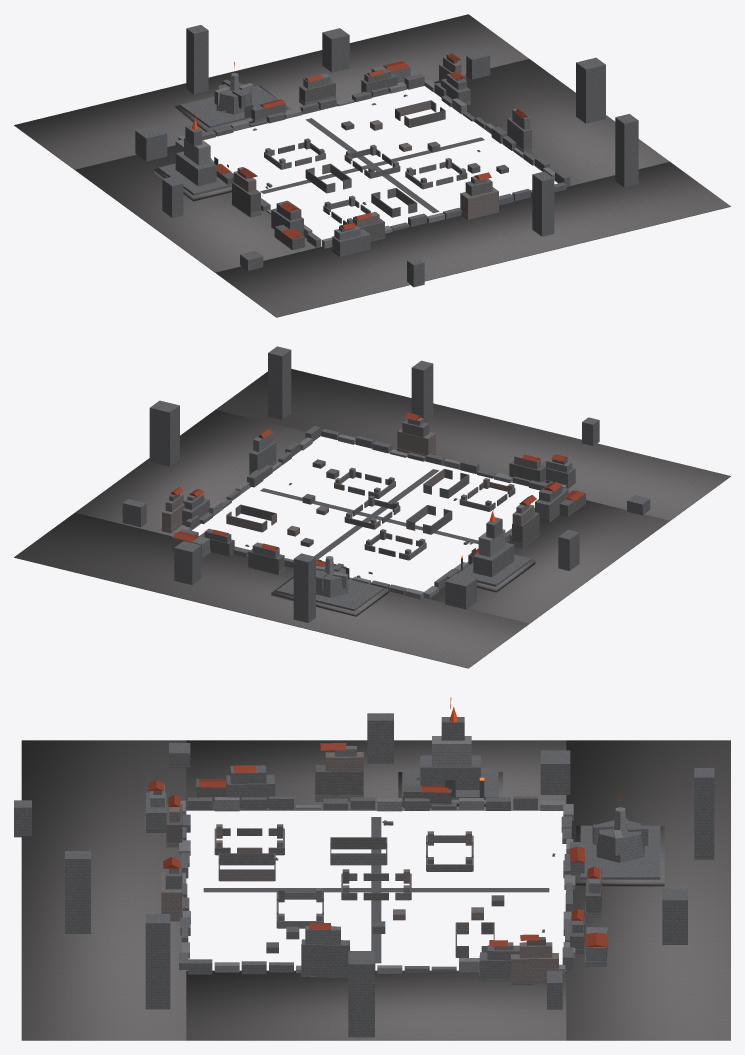
3 views of the same model, one above another, from view 1: azimuth 30°, elevation 25°; view 2: azimuth 150°, elevation 25°; view 3: azimuth 270°, elevation 25° (orthographic). The views are drawn at different scales.
Visible parts, largest first — view 1: HB_z02_LOD2_terrain, HB_z02_LOD2_wall_alt, HB_z02_LOD2_wall_weathered, HB_z02_LOD2_wall_warm, HB_z02_LOD2_wall_cool, HB_z02_LOD2_LANDMARK_0_wall_alt, HB_z02_LOD2_LANDMARK_1_wall_alt, HB_z02_LOD2_road, HB_z02_LOD2_wall, HB_z02_LOD2_roof, HB_z02_LOD2_LANDMARK_1_wall; view 2: HB_z02_LOD2_terrain, HB_z02_LOD2_wall_alt, HB_z02_LOD2_wall_weathered, HB_z02_LOD2_wall_warm, HB_z02_LOD2_wall_cool, HB_z02_LOD2_LANDMARK_0_wall_alt, HB_z02_LOD2_LANDMARK_1_wall_alt, HB_z02_LOD2_wall, HB_z02_LOD2_road, HB_z02_LOD2_roof, HB_z02_LOD2_LANDMARK_0_terrain, HB_z02_LOD2_LANDMARK_1_wall; view 3: HB_z02_LOD2_terrain, HB_z02_LOD2_wall_alt, HB_z02_LOD2_wall_weathered, HB_z02_LOD2_wall_warm, HB_z02_LOD2_wall_cool, HB_z02_LOD2_LANDMARK_0_wall_alt, HB_z02_LOD2_wall, HB_z02_LOD2_LANDMARK_1_wall_alt, HB_z02_LOD2_roof, HB_z02_LOD2_road, HB_z02_LOD2_LANDMARK_1_wall, HB_z02_LOD2_LANDMARK_0_terrain.
Part boxes in pixels (x1,y1,x2,y2): HB_z02_LOD2_terrain: (14,14,730,317); HB_z02_LOD2_wall_alt: (135,25,638,287); HB_z02_LOD2_wall_weathered: (216,53,508,256); HB_z02_LOD2_wall_warm: (233,56,498,237); HB_z02_LOD2_wall_cool: (237,61,531,240); HB_z02_LOD2_LANDMARK_0_wall_alt: (180,79,287,127); HB_z02_LOD2_LANDMARK_1_wall_alt: (158,125,231,195); HB_z02_LOD2_road: (260,118,484,213); HB_z02_LOD2_wall: (175,79,554,248); HB_z02_LOD2_roof: (216,53,527,238); HB_z02_LOD2_LANDMARK_1_wall: (184,138,210,165); HB_z02_LOD2_terrain: (14,369,730,668); HB_z02_LOD2_wall_alt: (122,346,650,622); HB_z02_LOD2_wall_weathered: (169,459,585,574); HB_z02_LOD2_wall_warm: (161,417,545,554); HB_z02_LOD2_wall_cool: (171,431,572,574); HB_z02_LOD2_LANDMARK_0_wall_alt: (276,563,383,611); HB_z02_LOD2_LANDMARK_1_wall_alt: (458,517,531,586); HB_z02_LOD2_wall: (175,434,566,599); HB_z02_LOD2_road: (260,469,478,559); HB_z02_LOD2_roof: (170,412,584,566); HB_z02_LOD2_LANDMARK_0_terrain: (271,576,388,616); HB_z02_LOD2_LANDMARK_1_wall: (478,529,505,557); HB_z02_LOD2_terrain: (21,740,730,1040); HB_z02_LOD2_wall_alt: (14,713,714,1037); HB_z02_LOD2_wall_weathered: (146,765,601,957); HB_z02_LOD2_wall_warm: (161,752,558,984); HB_z02_LOD2_wall_cool: (150,746,607,979); HB_z02_LOD2_LANDMARK_0_wall_alt: (580,820,660,879); HB_z02_LOD2_wall: (179,797,575,974); HB_z02_LOD2_LANDMARK_1_wall_alt: (402,717,498,799); HB_z02_LOD2_roof: (148,743,607,946); HB_z02_LOD2_road: (203,817,549,963); HB_z02_LOD2_LANDMARK_1_wall: (432,736,471,766); HB_z02_LOD2_LANDMARK_0_terrain: (576,826,664,886).
Bounding box in the file's own units: 560 × 83.57 × 566.
Materials: 13 (11 with a texture image).
